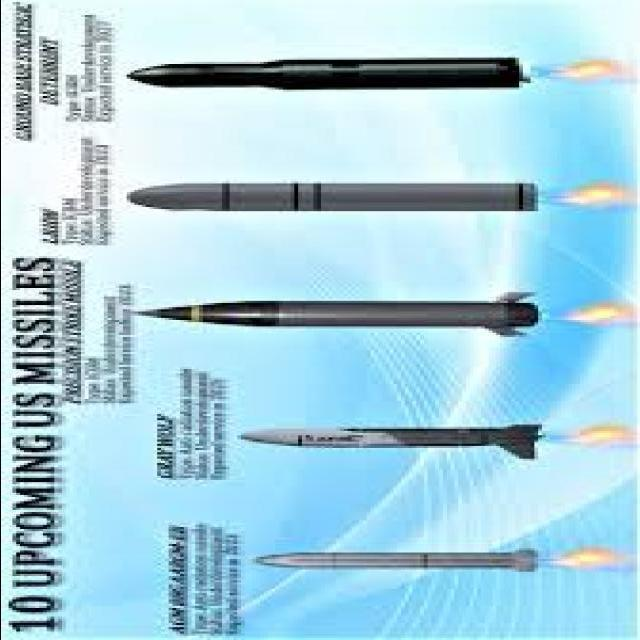missile: (118, 47, 546, 99), (136, 287, 541, 341), (236, 414, 553, 463), (252, 533, 544, 581), (125, 183, 526, 212)
